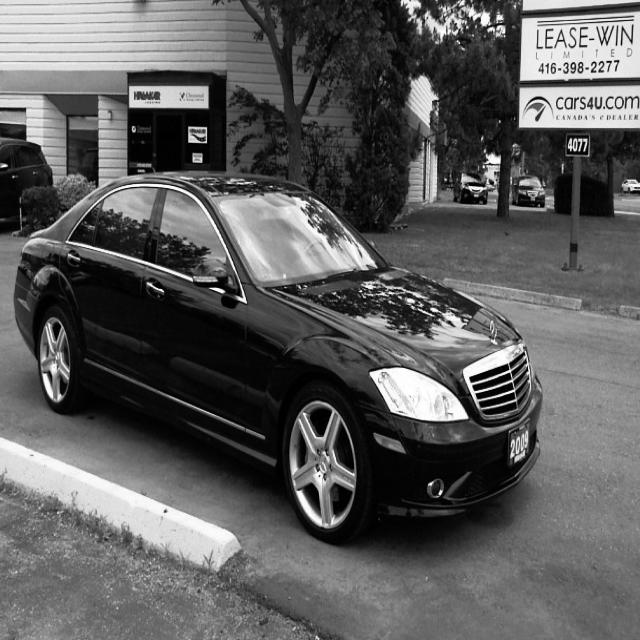car: (14, 170, 544, 546), (0, 136, 53, 220), (452, 168, 488, 204), (510, 174, 547, 208), (620, 178, 640, 194)
